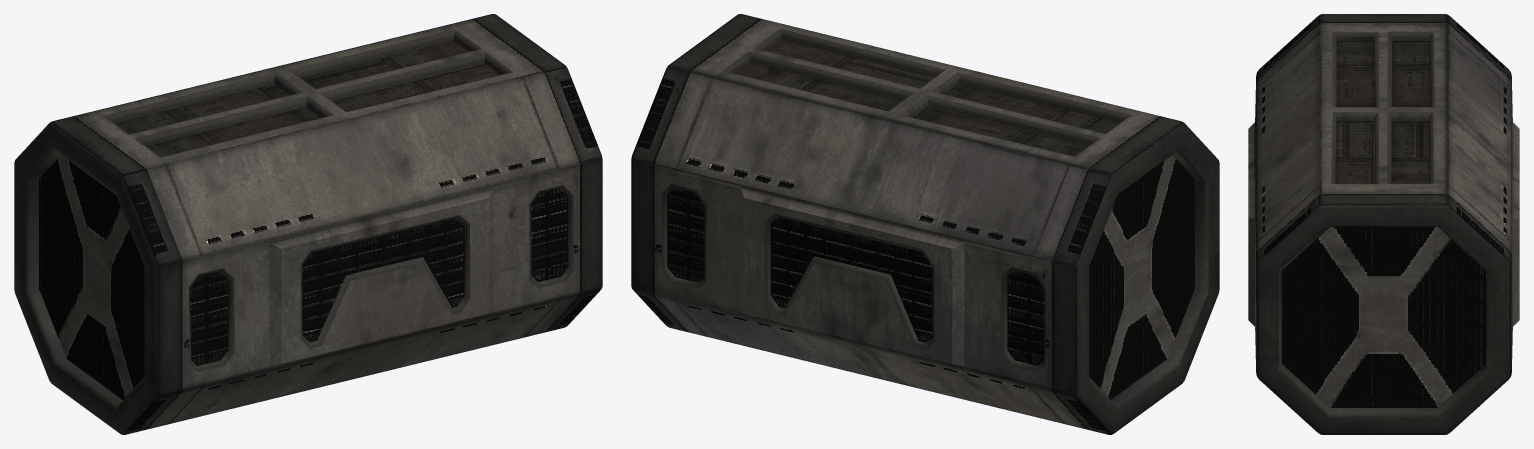
The model's file is machinery_1.glb.
3 views of the same model, side by side, from view 1: azimuth 30°, elevation 25°; view 2: azimuth 150°, elevation 25°; view 3: azimuth 270°, elevation 25° (orthographic). The views are drawn at different scales.
Parts seen in each view (by area): view 1: machinery_1; view 2: machinery_1; view 3: machinery_1.
Part boxes in pixels (x1=…): machinery_1: x1=14, y1=14, x2=602, y2=434; machinery_1: x1=631, y1=14, x2=1219, y2=434; machinery_1: x1=1248, y1=14, x2=1519, y2=434.
Size of the model in its own units: 1.14 by 0.64 by 0.68.
1 material, 1 textured.
